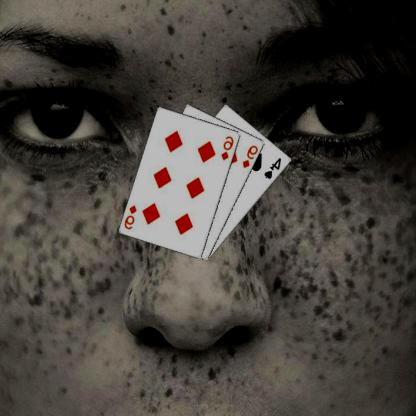4S: (264, 155, 284, 180)
6D: (220, 133, 237, 161), (124, 203, 140, 230)
9D: (241, 143, 261, 169)
